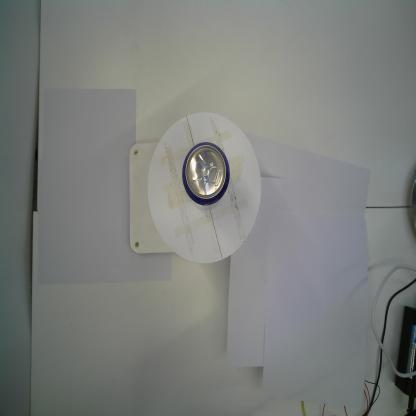Alcohol: (182, 141, 231, 207)
